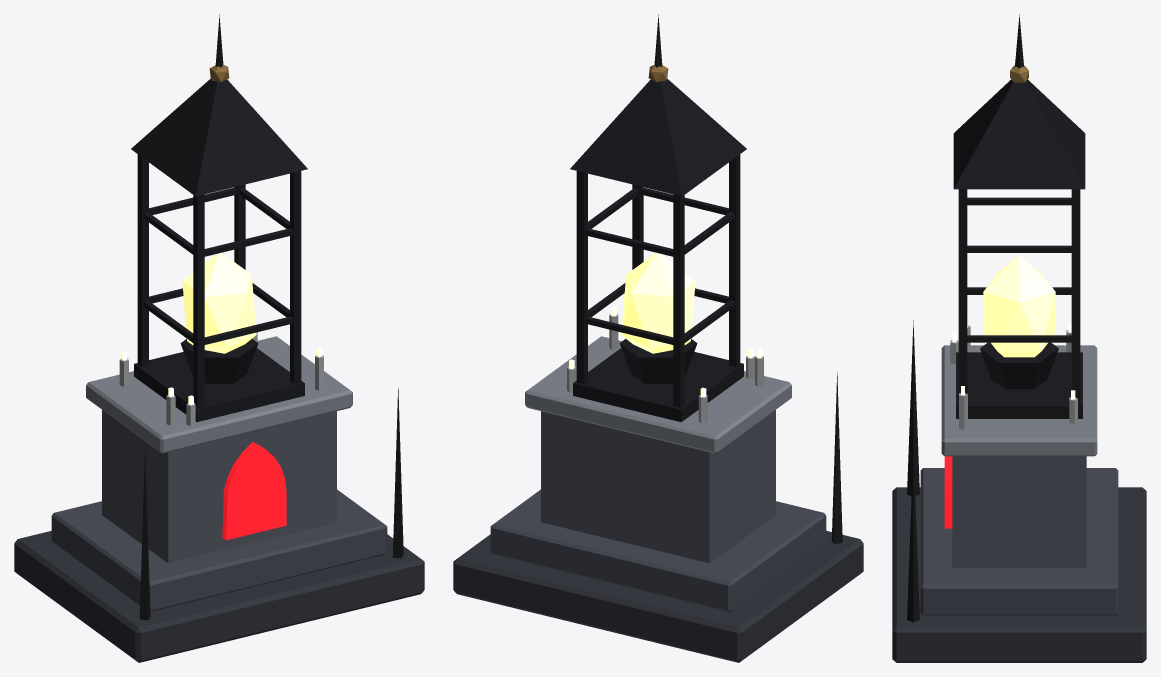
File: gothic_shrine.glb
The picture shows the model from 3 angles, left to right: view 1: azimuth 30°, elevation 25°; view 2: azimuth 150°, elevation 25°; view 3: azimuth 270°, elevation 25°; orthographic projection.
Visible parts, largest first — view 1: gothic_shrine; view 2: gothic_shrine; view 3: gothic_shrine.
Boxes of the visible parts, x1,y1,x2,y2 form: gothic_shrine: [14, 14, 424, 662]; gothic_shrine: [453, 14, 863, 662]; gothic_shrine: [892, 14, 1146, 662].
Bounding box in the file's own units: 2.4 × 4.52 × 1.8.
